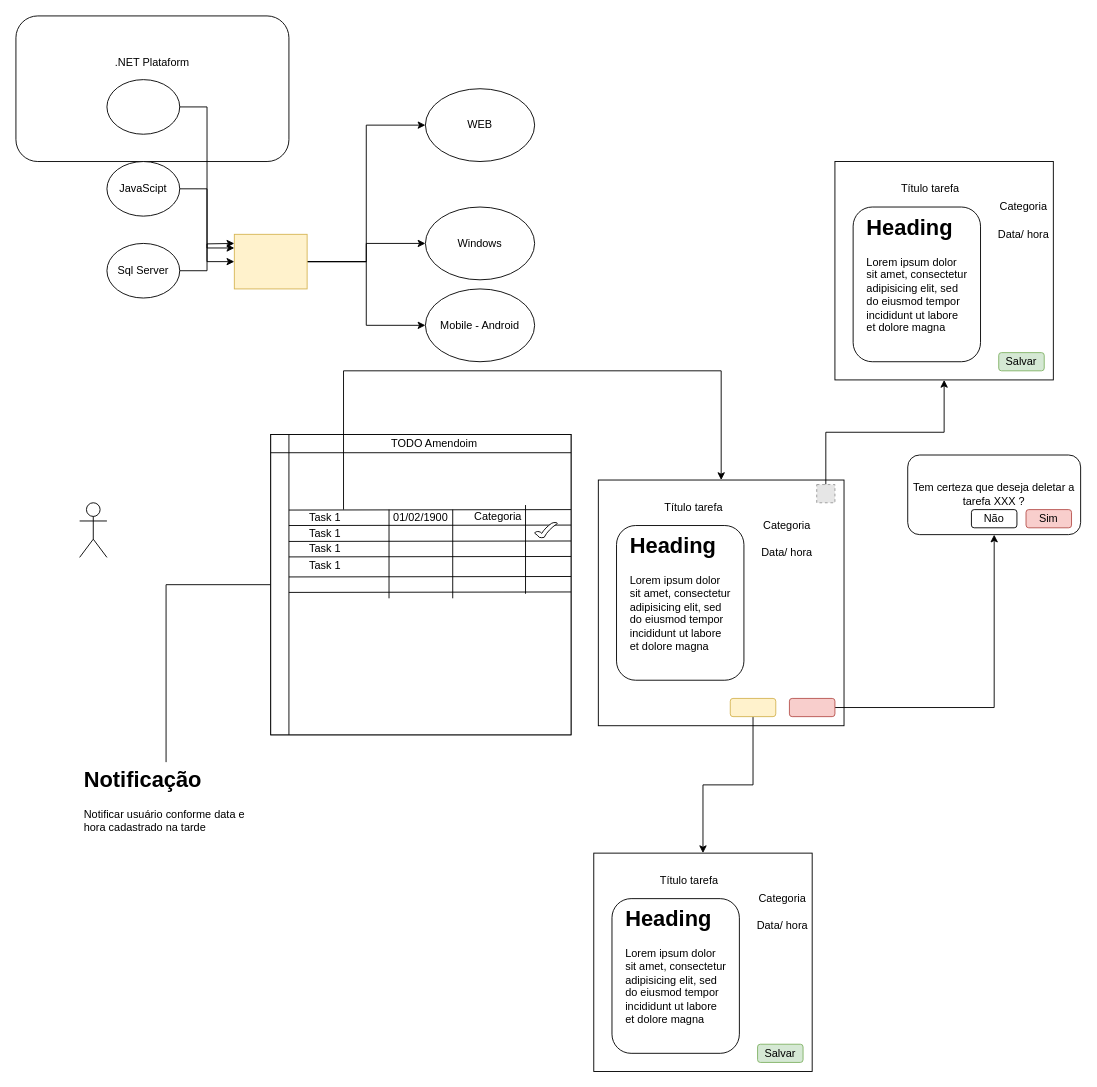
Some shapes in this 1097 by 1087 pixel diagram are drawn without their labels. Grey dashed boxes stand in for pictures. The centre of each missing label's shape, as x and y in pixels:
C#: the point at 143,106
Editar: the point at 752,707
Excluir: the point at 812,707
TODO APP: the point at 270,261
Usuario: the point at 93,529
